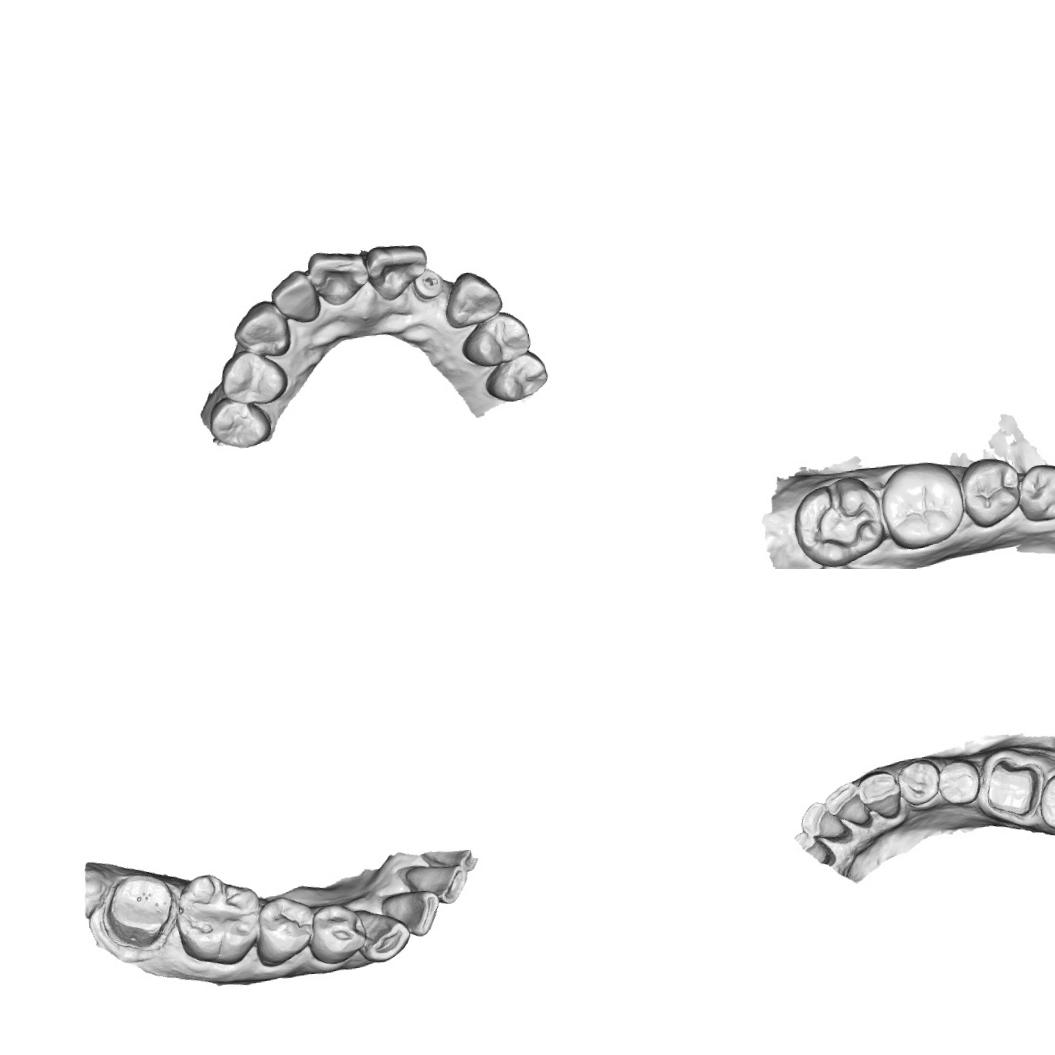canine: (440, 268, 504, 329), (230, 297, 292, 359), (353, 902, 412, 964), (854, 766, 904, 822)
crown: (94, 866, 183, 955), (980, 752, 1046, 822)
implant_minus: (410, 268, 444, 302)
incisor: (364, 240, 430, 302), (306, 247, 369, 309), (378, 888, 442, 940), (402, 861, 470, 908), (268, 267, 321, 325), (821, 779, 871, 829), (797, 797, 848, 844)
inlay: (805, 478, 880, 554)
molar: (169, 867, 262, 972), (876, 458, 966, 552), (1034, 764, 1055, 841)
premolar: (957, 453, 1026, 530), (254, 892, 316, 968), (456, 308, 532, 369), (218, 346, 290, 407), (305, 900, 366, 968), (206, 393, 273, 451), (481, 350, 550, 404), (1012, 458, 1055, 524), (936, 755, 984, 808), (896, 755, 942, 808)
